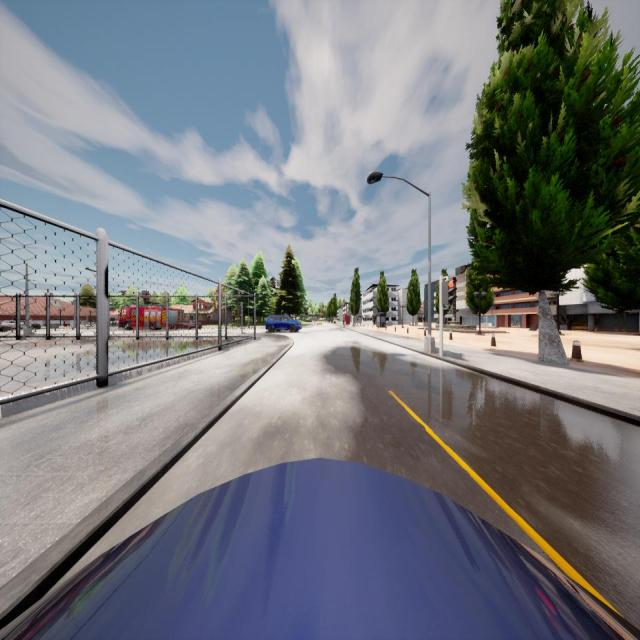Vehicle: (0, 457, 640, 640), (120, 306, 181, 330), (266, 315, 300, 332), (0, 320, 23, 329), (181, 320, 201, 329), (317, 322, 322, 326)
traffic_light: (442, 281, 456, 304)
